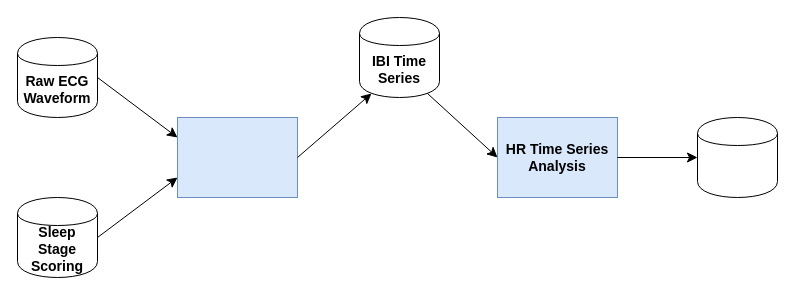
Image size: 795x295. Some labels were removed from this diagram. Here are the shapes that lost their labels. From the top down, the centre of each, then its label:
pixel 237 157: IBI Time Series Extraction
pixel 737 157: Results Summary
